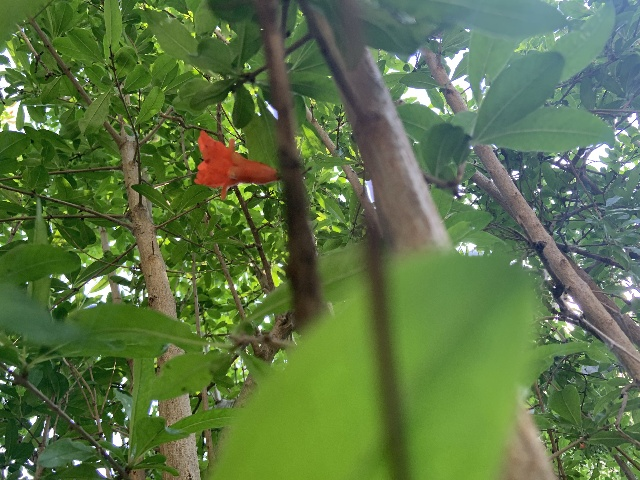bud: (579, 443, 586, 449)
flower: (194, 129, 277, 200)
